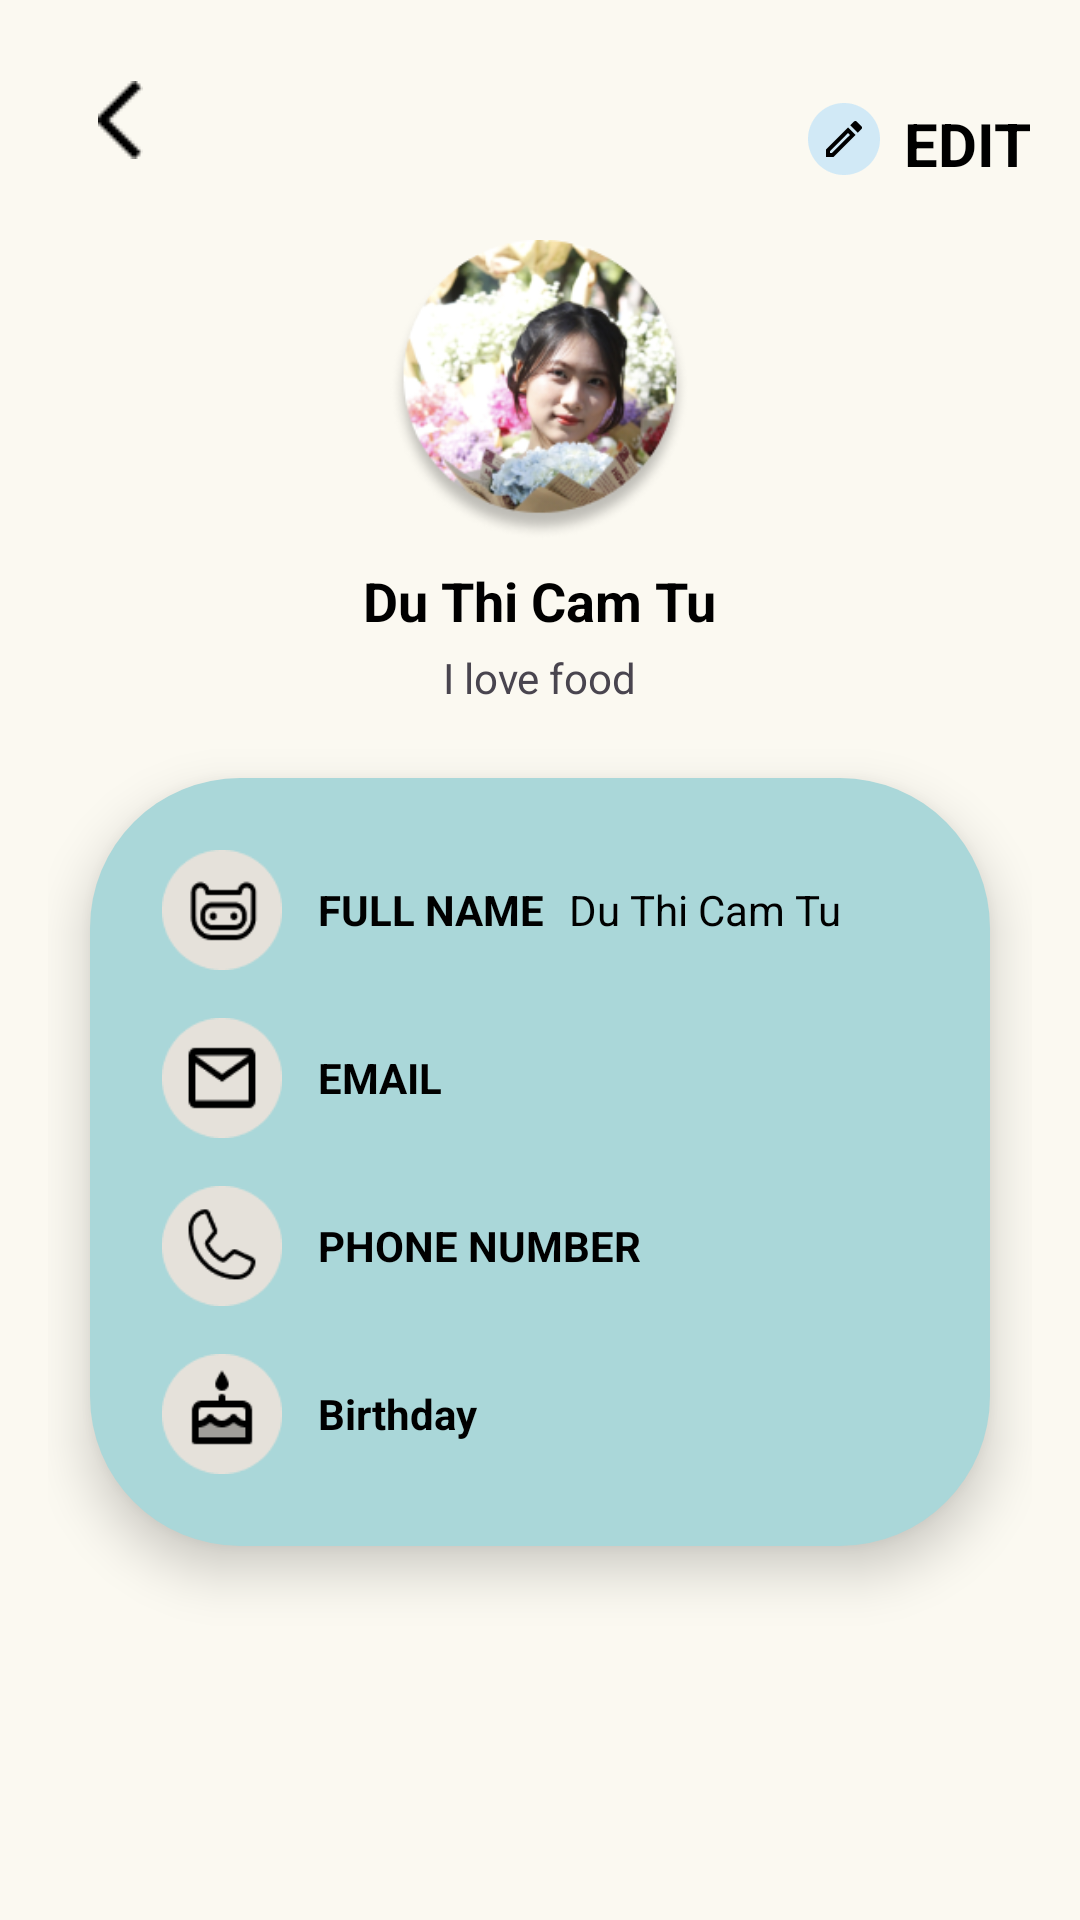

Icon click points for this 1080*1920 phone screenshot, format point (x, y):
back: point (120, 120)
personal: point (222, 910)
profile picture: point (540, 384)
